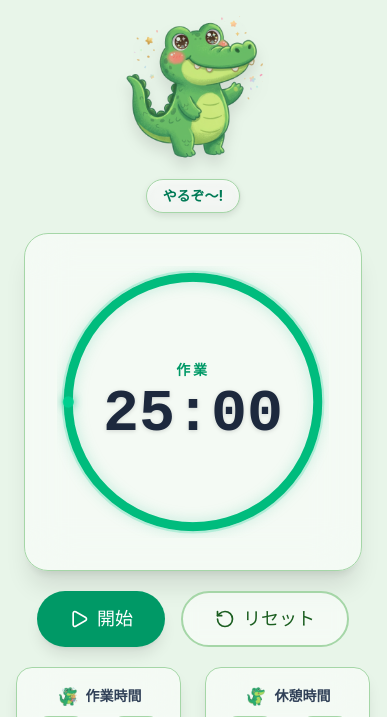
Scenario: PomodoroTimer › 停止ボタンでタイマーが停止すること
The image size is (387, 717).
Click the button "開始" at (101, 619), box [37,591,165,647]
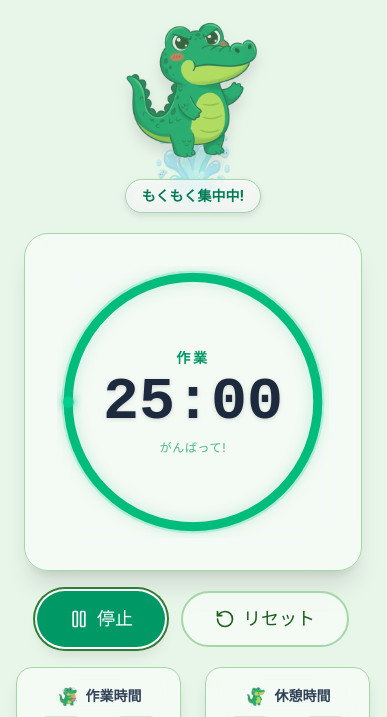
Click the button "停止" at (101, 619), box [37,591,165,647]
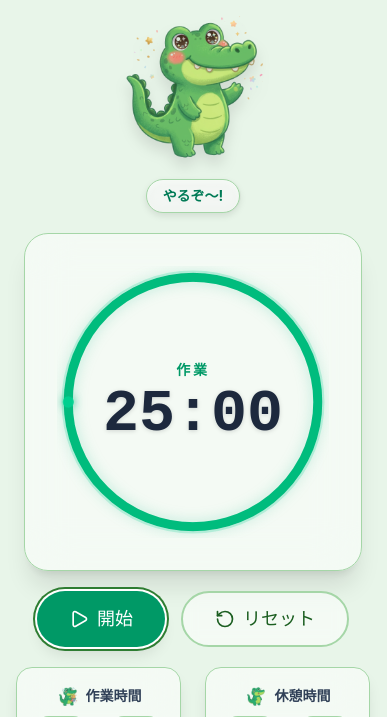
Now the button "開始" is shown, box [37,591,165,647]
